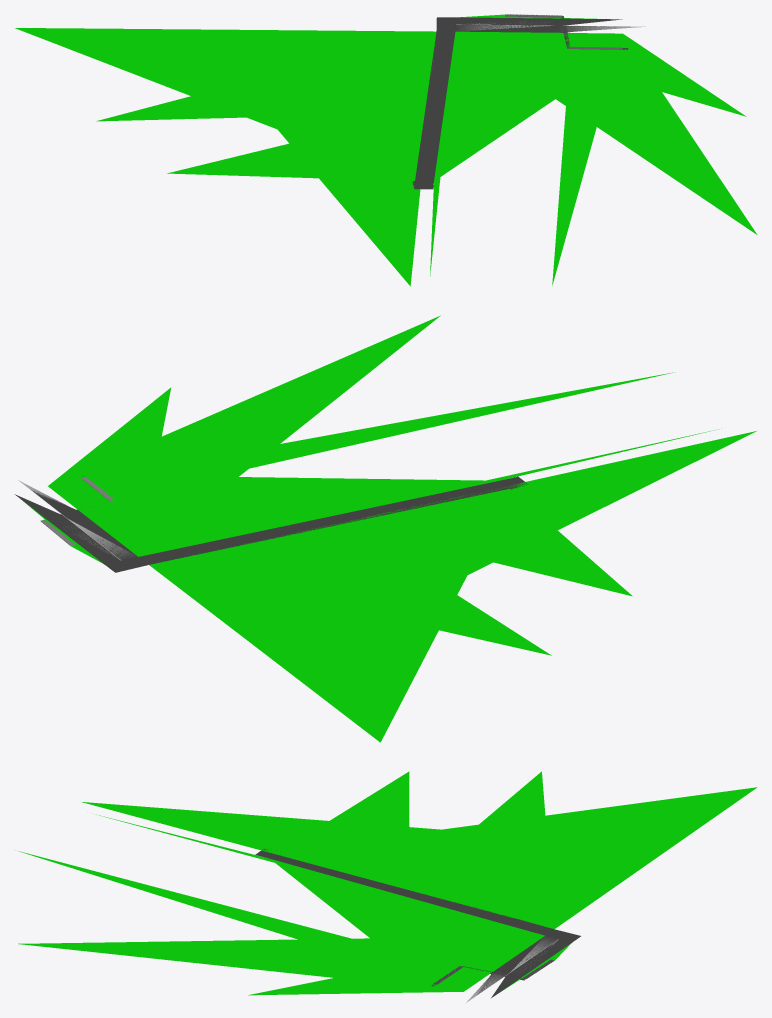
3 renders of one model, top to bottom at view 1: azimuth 30°, elevation 25°; view 2: azimuth 150°, elevation 25°; view 3: azimuth 270°, elevation 25°, orthographic. The views are drawn at different scales.
Size of the model in its own units: 124 by 0.3 by 168.
